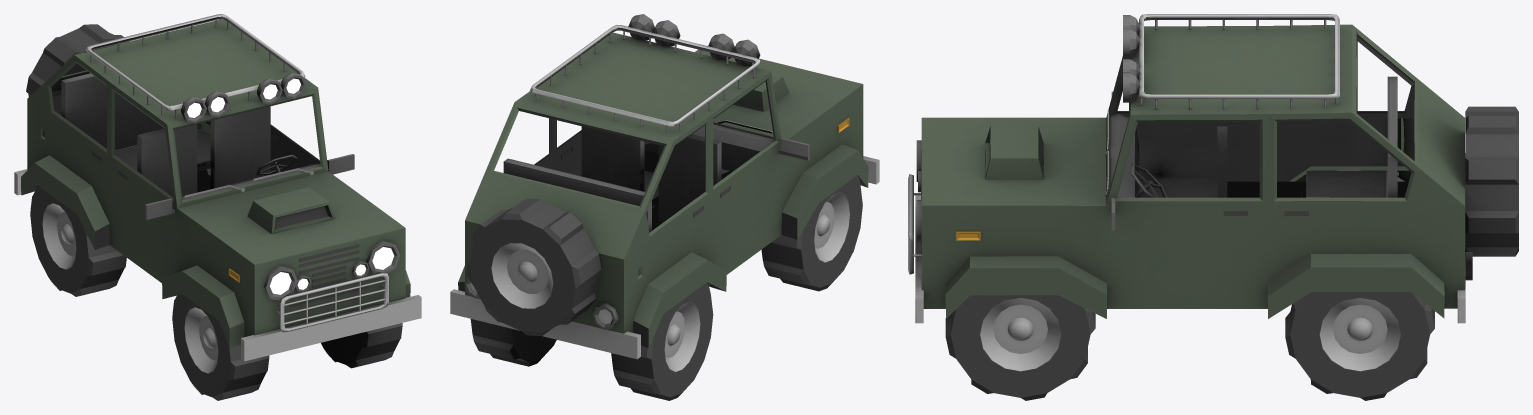
Rendered from low-poly-car.glb.
3 renders of one model, left to right at view 1: azimuth 30°, elevation 25°; view 2: azimuth 150°, elevation 25°; view 3: azimuth 270°, elevation 25°, orthographic. The views are drawn at different scales.
Visible parts, largest first — view 1: Box002, Cylinder001, Cylinder002; view 2: Box002; view 3: Box002.
Part boxes in pixels (x1,y1,x2,y2): Box002: [14, 14, 421, 400]; Cylinder001: [269, 272, 291, 294]; Cylinder002: [372, 247, 394, 269]; Box002: [450, 14, 879, 400]; Box002: [908, 14, 1518, 400].
Bounding box in the file's own units: 0.9963 × 1.18 × 2.12.
Materials: 2 (2 with a texture image).
